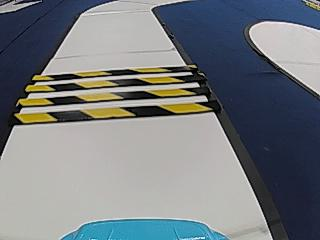bump: (13, 59, 216, 131)
